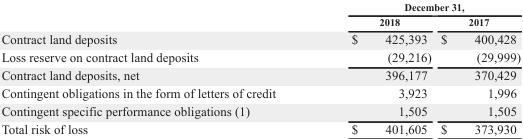table: (0, 0, 519, 136)
table column: (0, 0, 312, 136), (312, 0, 435, 136), (435, 0, 519, 136)
table column header: (0, 0, 519, 29)
table row: (0, 29, 519, 47), (0, 47, 519, 65), (0, 65, 519, 83), (0, 83, 519, 101), (0, 101, 519, 119), (0, 119, 519, 136), (0, 14, 519, 29), (0, 0, 519, 14)
table spanning cell: (312, 0, 519, 14)
